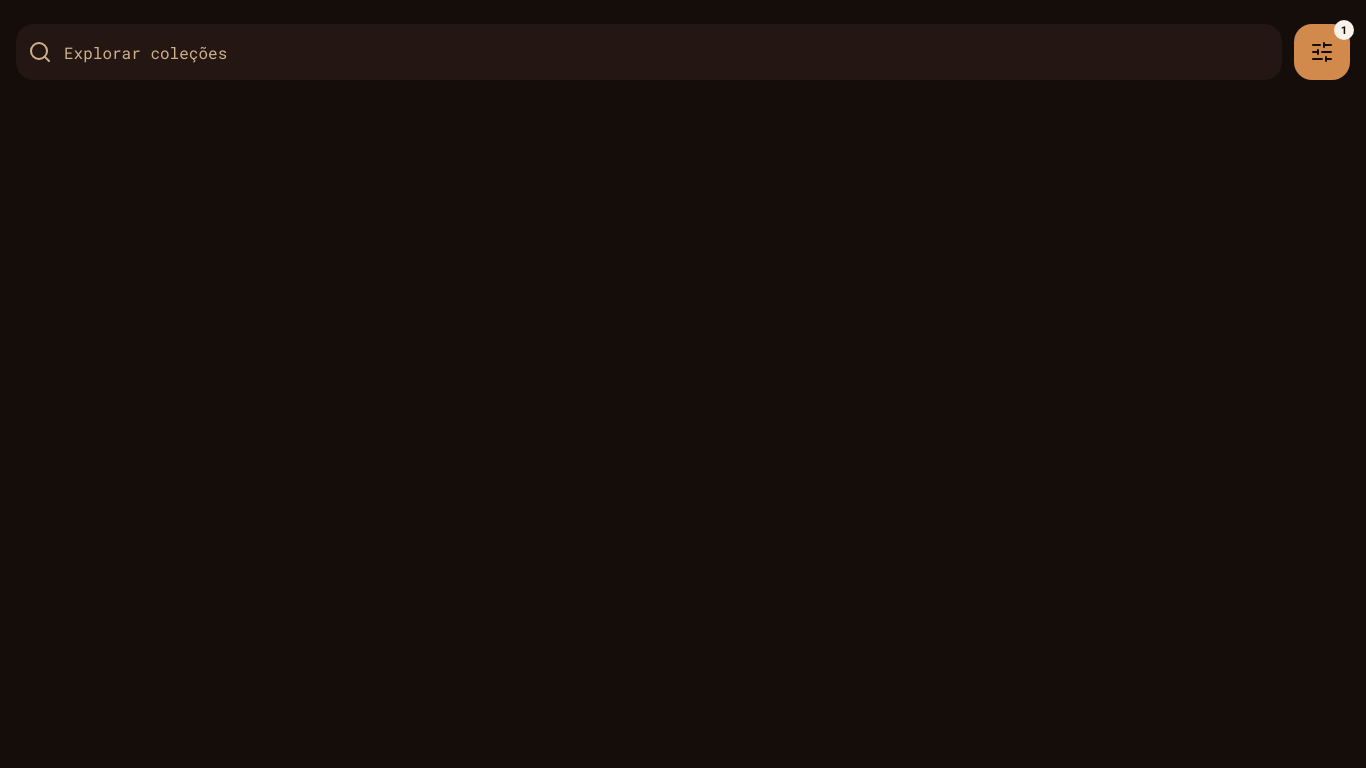
CatalogMobileTopBar: busca e filtros no topo do Início mobile › o botão laranja abre o drawer de filtros e diz quantos filtros estão ativos
This screenshot has width=1366, height=768.
Click the button named "Filtros (1 ativo)". click: (1322, 52)
box: [1294,24,1350,80]
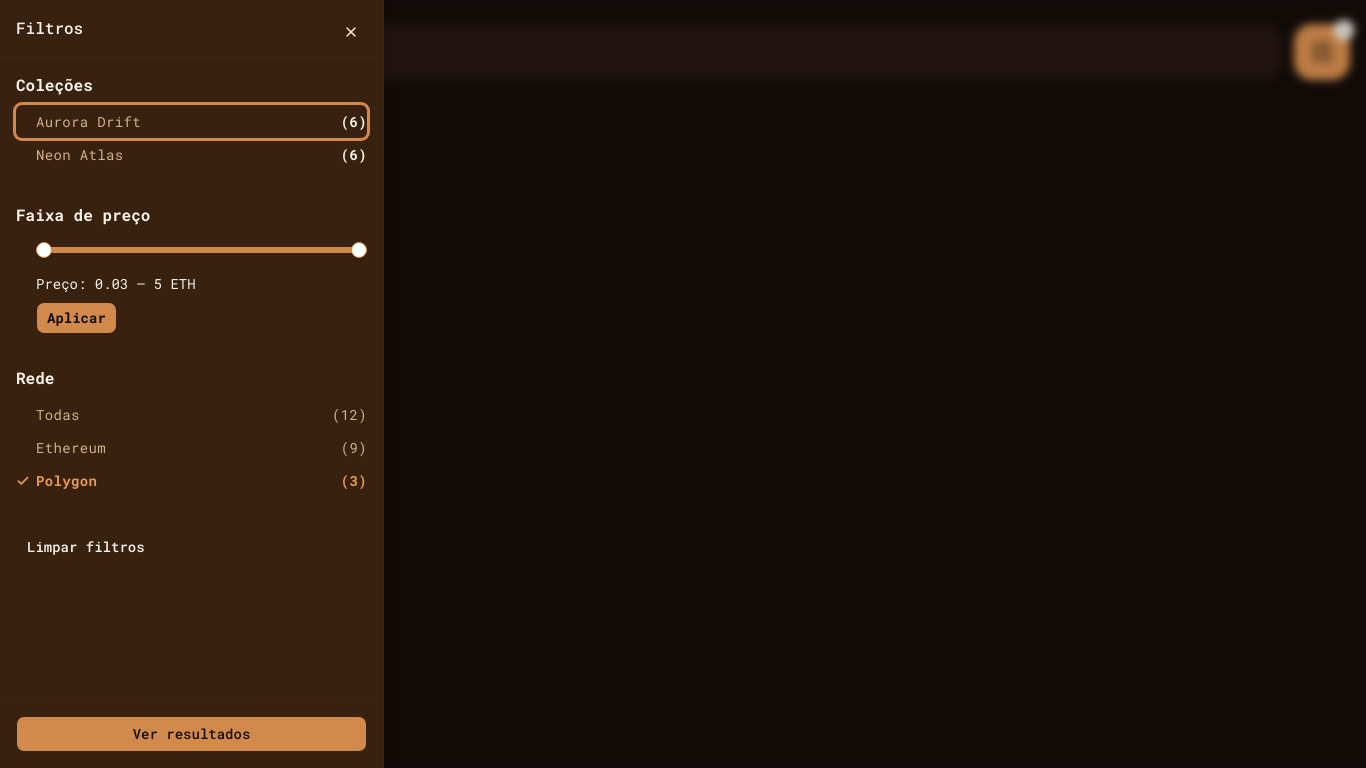
Expected: the element showing "Todas (12) Ethereum (9) Polygon (3)" is shown, [16,398,367,497]
